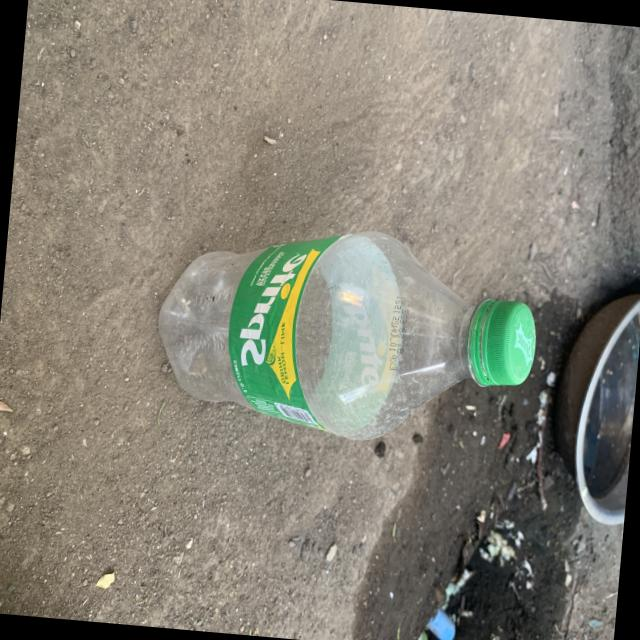Bottle: (157, 232, 534, 439)
